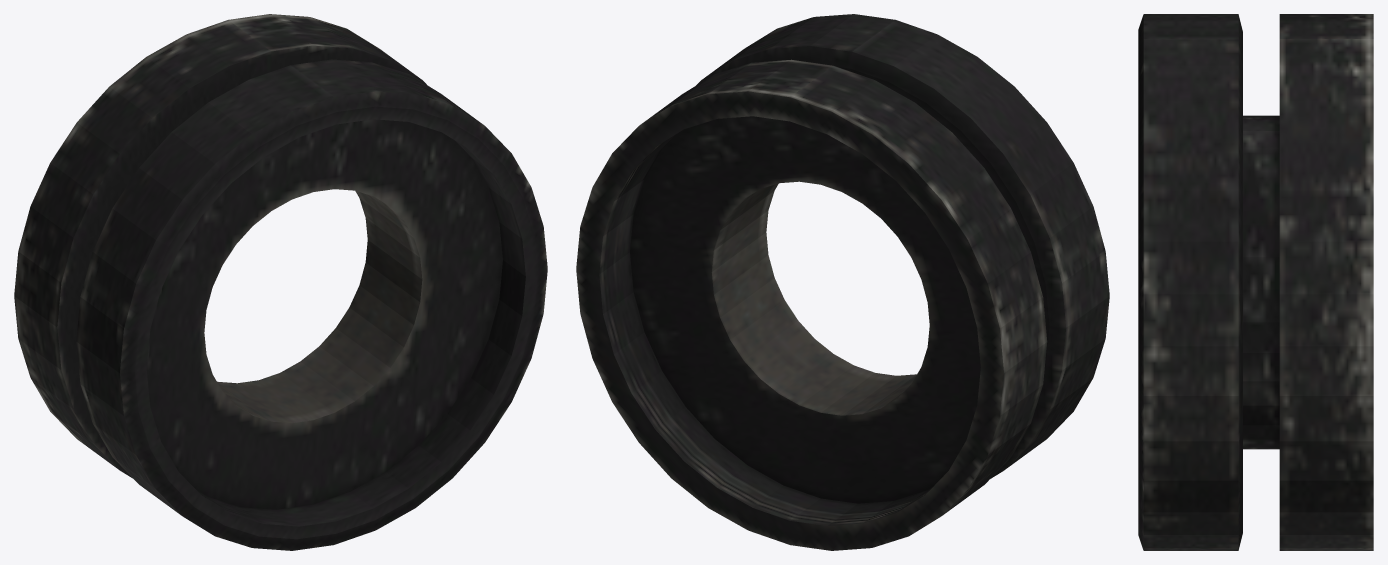
The picture shows the model from 3 angles, left to right: view 1: azimuth 30°, elevation 25°; view 2: azimuth 150°, elevation 25°; view 3: azimuth 270°, elevation 25°; orthographic projection. The views are drawn at different scales.
Parts seen in each view (by area): view 1: TW_64527a263d52156624001fd7_PZ_Import; view 2: TW_64527a263d52156624001fd7_PZ_Import; view 3: TW_64527a263d52156624001fd7_PZ_Import.
Part boxes in pixels (x1,y1,x2,y2): TW_64527a263d52156624001fd7_PZ_Import: (14, 14, 547, 550); TW_64527a263d52156624001fd7_PZ_Import: (576, 14, 1109, 550); TW_64527a263d52156624001fd7_PZ_Import: (1138, 14, 1373, 550).
Size of the model in its own units: 0.0177 by 0.00777 by 0.0177.
1 material, 1 textured.
